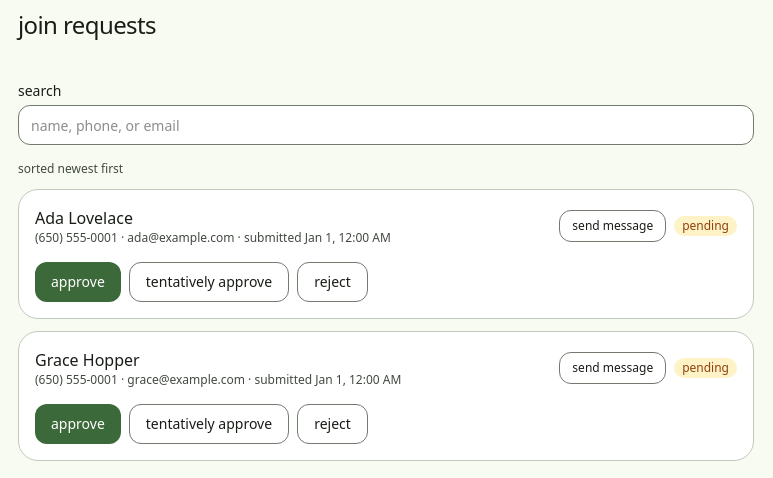
Test: JoinRequestsScreen search › filters by name
Type "grace" into the field labelled "search" at (386, 125), box [18,105,754,145]
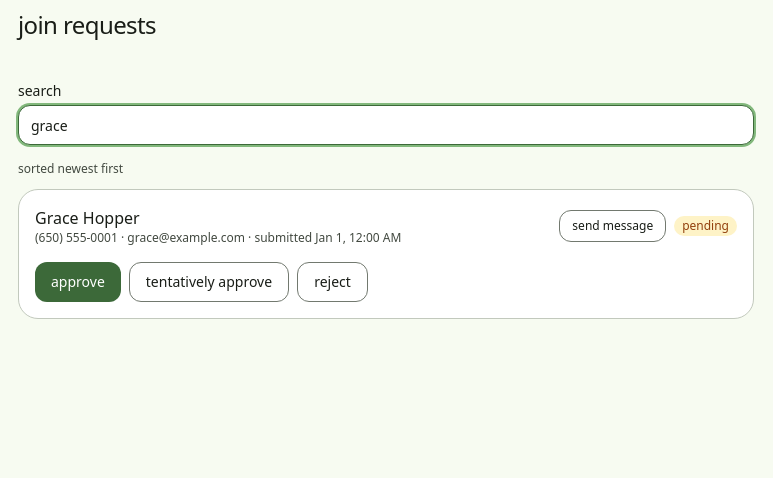
Expected: the heading "Grace Hopper" is shown, [35,207,140,229]
Result: the heading "Ada Lovelace" is gone
